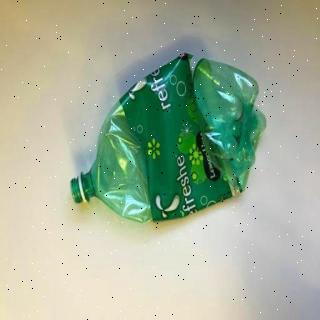Plastic-bottle: (71, 52, 267, 224)
